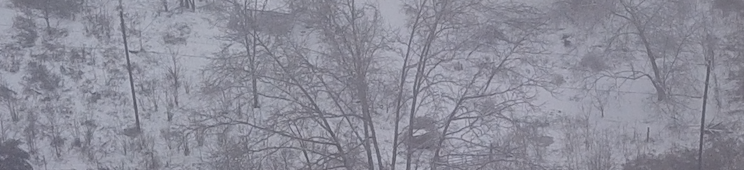pole: (97, 5, 177, 136), (675, 52, 730, 169)
